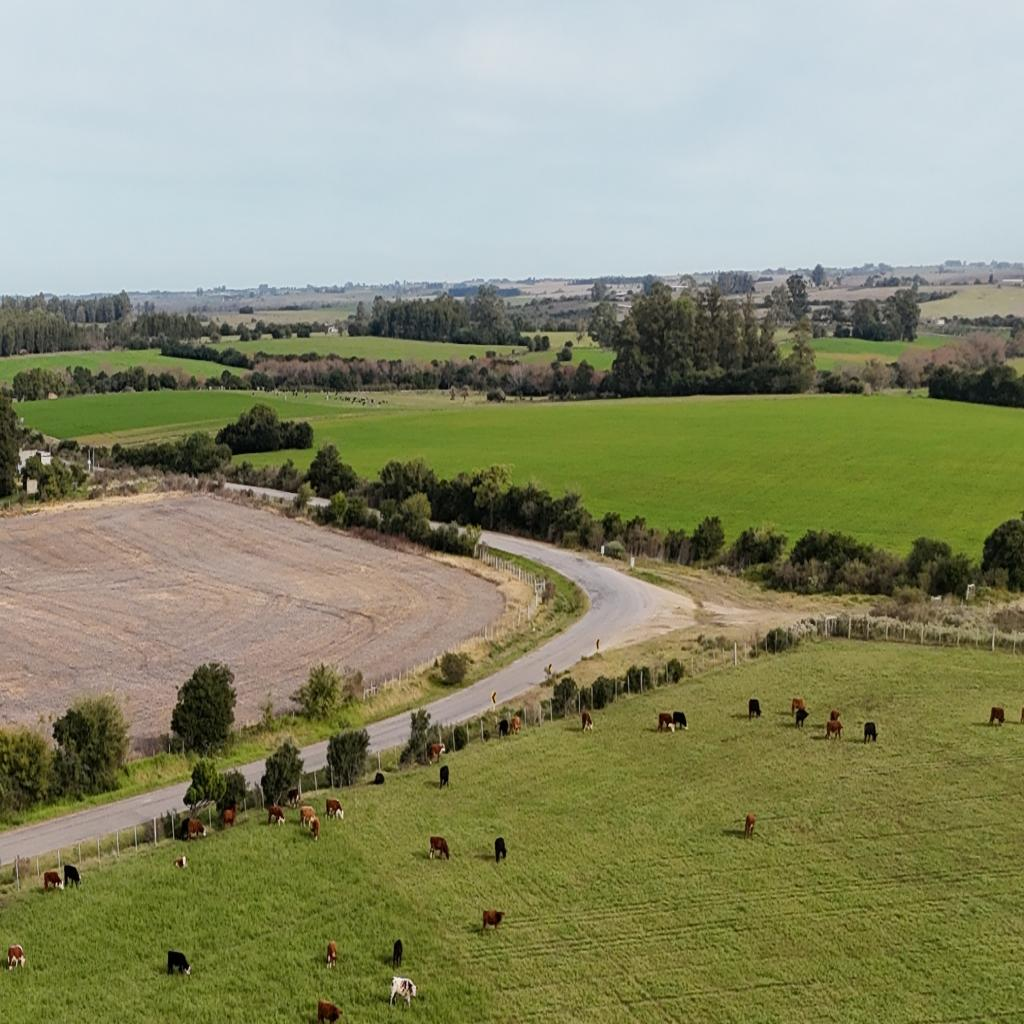cow: (389, 976, 417, 1012), (481, 908, 505, 936), (167, 950, 191, 977), (318, 999, 342, 1024), (6, 944, 26, 972), (430, 835, 450, 860), (43, 870, 63, 894), (299, 806, 317, 832), (185, 819, 206, 841), (656, 711, 674, 735), (64, 864, 82, 888), (428, 742, 446, 766), (673, 708, 690, 733), (267, 804, 285, 826), (326, 798, 344, 820), (825, 719, 843, 741), (222, 804, 237, 828), (326, 940, 338, 970), (495, 836, 507, 864), (989, 706, 1005, 726), (744, 813, 756, 839), (748, 699, 762, 721), (794, 710, 810, 729), (863, 722, 877, 743), (287, 788, 301, 808), (392, 940, 402, 968), (790, 696, 806, 713), (581, 711, 593, 733), (439, 765, 449, 789), (172, 854, 188, 869), (509, 716, 521, 735), (498, 720, 510, 738), (830, 710, 841, 722), (374, 772, 384, 784)
